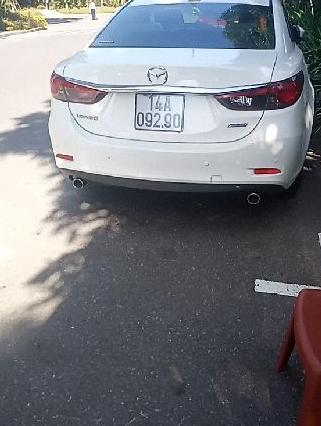Plate-iWeP: (134, 93, 184, 131)
